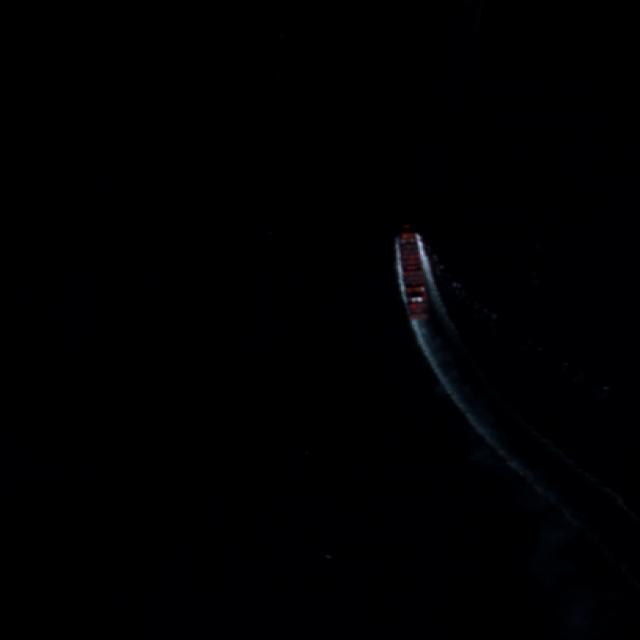Container Ship: (392, 217, 432, 324)
